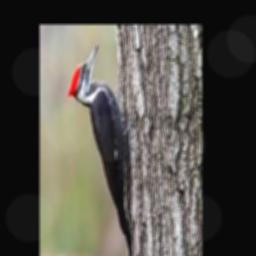Woodpecker: (67, 43, 134, 256)
